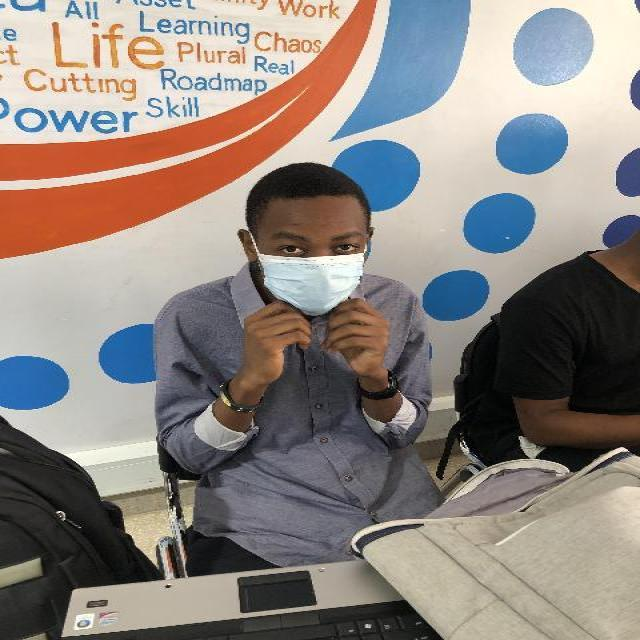bare_hand: (227, 298, 320, 411), (316, 296, 405, 402)
